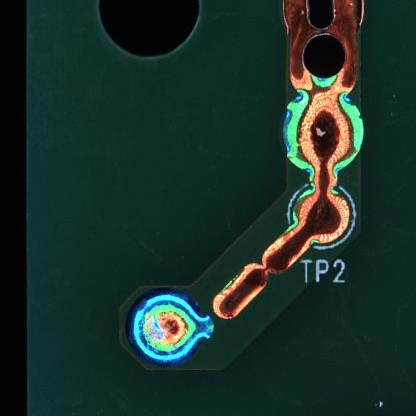spot: (125, 285, 216, 367)
